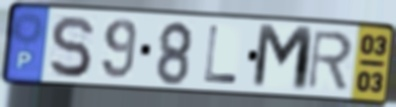8: (154, 17, 195, 86)
9: (99, 17, 140, 82)
L: (202, 23, 240, 86)
M: (249, 22, 317, 95)
R: (305, 29, 356, 92)
S: (47, 13, 95, 79)
